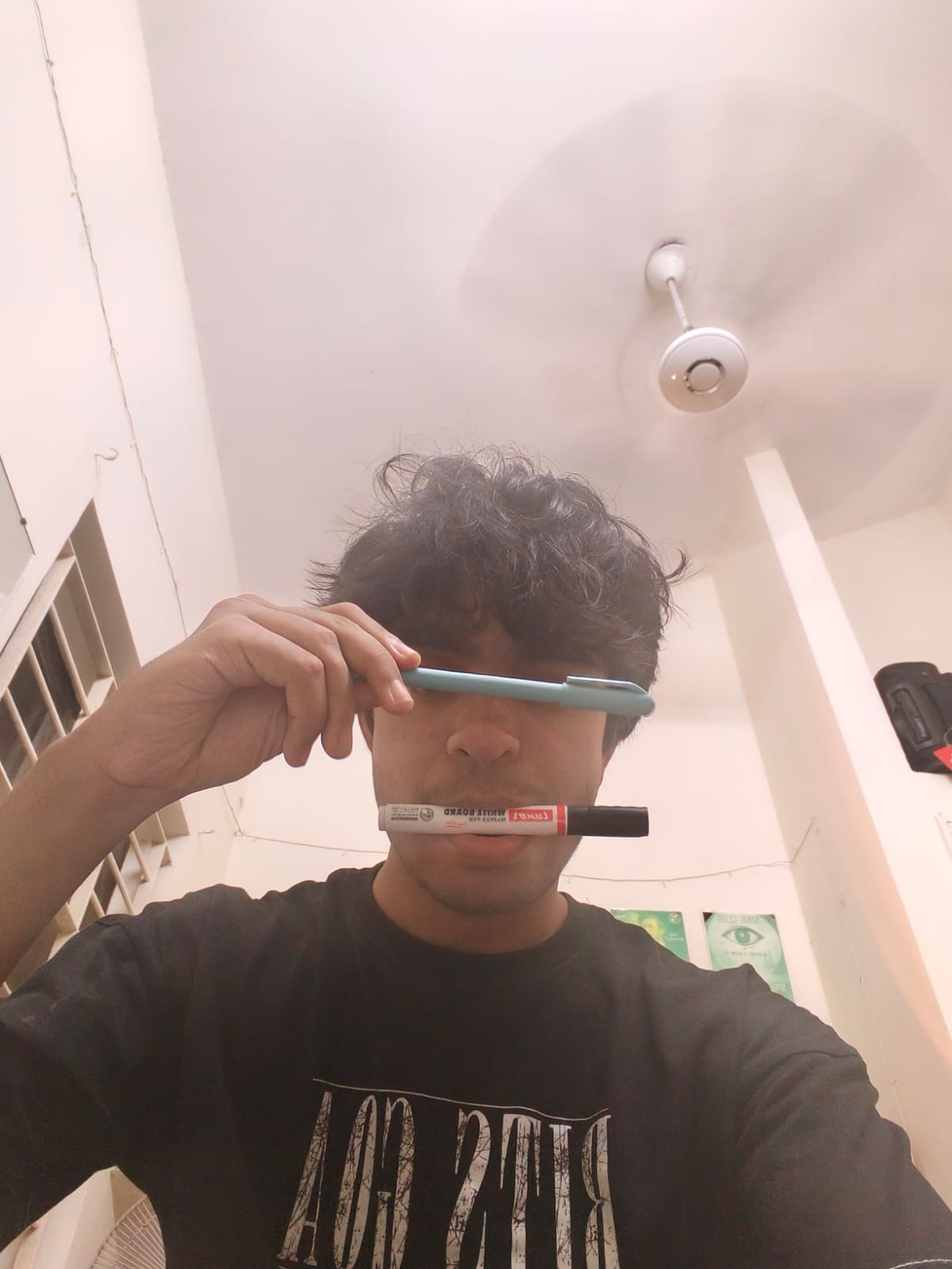case: (369, 787, 659, 877)
pen: (367, 663, 673, 725)
